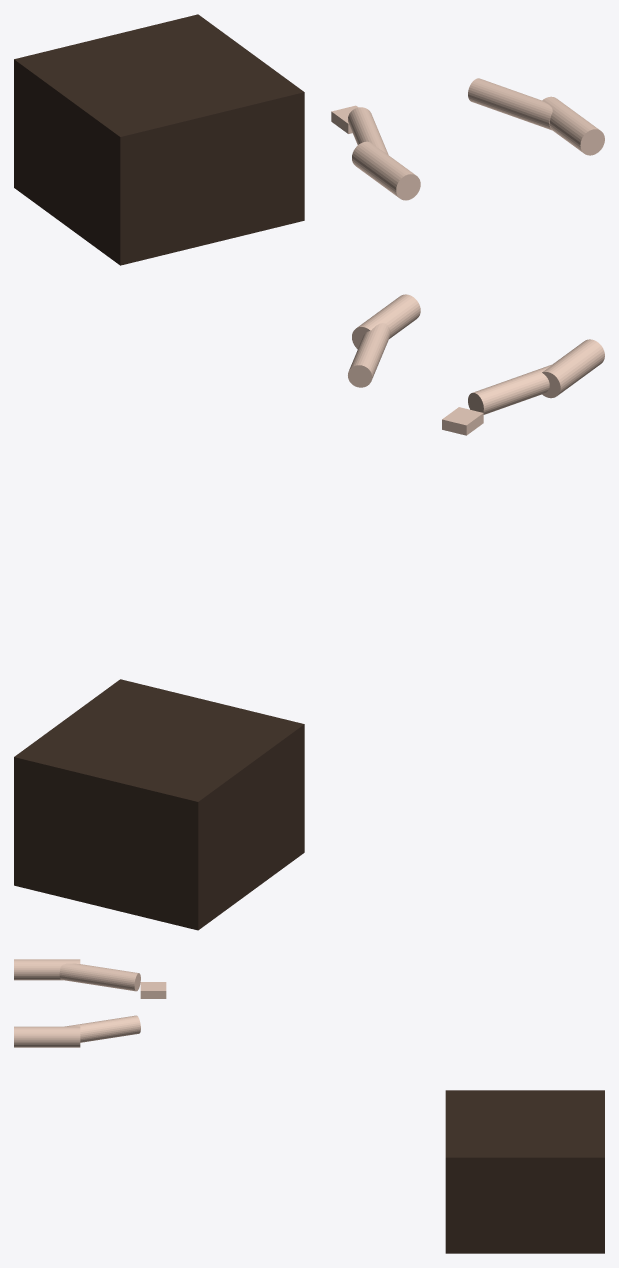
File: fp-arms.glb
3 renders of one model, top to bottom at view 1: azimuth 30°, elevation 25°; view 2: azimuth 150°, elevation 25°; view 3: azimuth 270°, elevation 25°, orthographic. The views are drawn at different scales.
Visible parts, largest first — view 1: Cube.002, Cylinder.004, Cylinder.001, Cylinder.003, Cylinder.002, Cube.003; view 2: Cube.002, Cylinder.002, Cylinder.001, Cylinder.004, Cylinder.003, Cube.003; view 3: Cube.002, Cylinder.002, Cylinder.003, Cylinder.004, Cylinder.001, Cube.003.
Boxes of the visible parts, <box> form: Cube.002: <box>14,14,304,265</box>; Cylinder.004: <box>468,78,552,130</box>; Cylinder.001: <box>352,141,420,200</box>; Cylinder.003: <box>542,96,604,155</box>; Cylinder.002: <box>348,107,388,154</box>; Cube.003: <box>331,105,358,133</box>; Cube.002: <box>14,679,304,930</box>; Cylinder.002: <box>468,364,552,414</box>; Cylinder.001: <box>542,339,604,398</box>; Cylinder.004: <box>348,323,390,387</box>; Cylinder.003: <box>352,294,420,349</box>; Cube.003: <box>442,407,483,435</box>; Cube.002: <box>445,1090,604,1253</box>; Cylinder.002: <box>59,963,140,991</box>; Cylinder.003: <box>14,1026,80,1047</box>; Cylinder.004: <box>65,1015,140,1042</box>; Cylinder.001: <box>14,959,80,980</box>; Cube.003: <box>140,982,166,998</box>.
Bounding box in the file's own units: 0.68 × 0.94 × 2.22.
